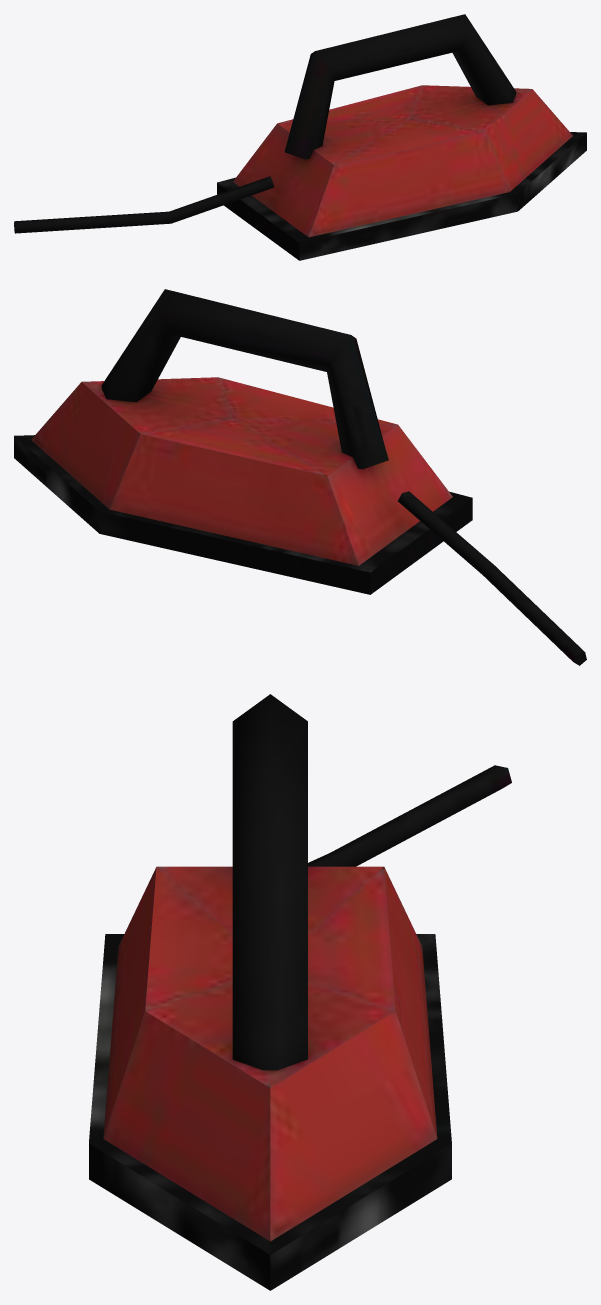
The model's file is iron_lod1_web.glb.
3 views of the same model, one above another, from view 1: azimuth 30°, elevation 25°; view 2: azimuth 150°, elevation 25°; view 3: azimuth 270°, elevation 25° (orthographic). The views are drawn at different scales.
Parts seen in each view (by area): view 1: Iron_Body; view 2: Iron_Body; view 3: Iron_Body.
Boxes of the visible parts, bbox=[...] form: Iron_Body: bbox=[14, 14, 586, 260]; Iron_Body: bbox=[14, 289, 586, 665]; Iron_Body: bbox=[89, 694, 511, 1290].
Size of the model in its own units: 0.3619 by 0.111 by 0.1282.
1 material, 1 textured.
